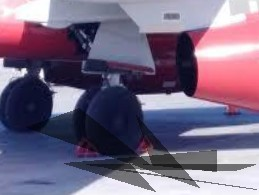chock: (72, 135, 100, 157), (131, 133, 156, 155)
wheel: (84, 85, 145, 158), (0, 76, 58, 136)
